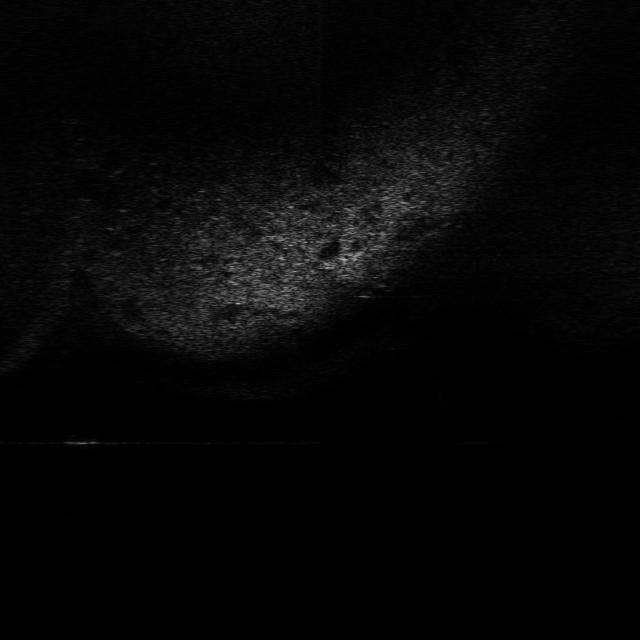cube: (56, 425, 104, 453)
